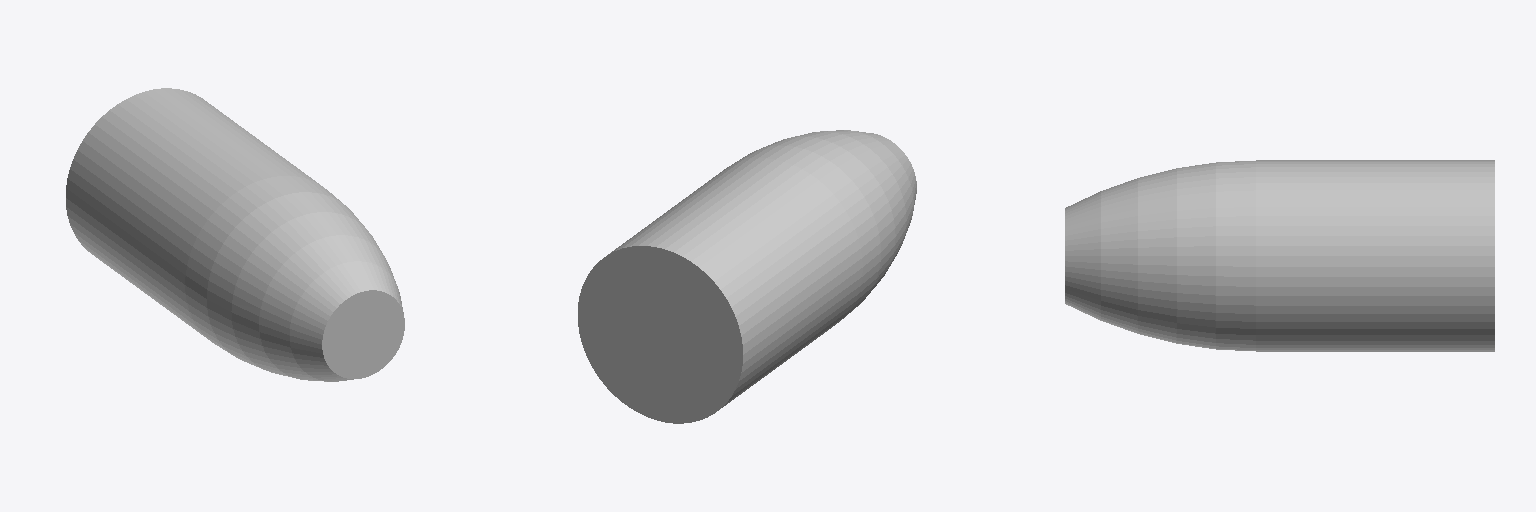
File: Bullet.obj
3 views of the same model, side by side, from view 1: azimuth 30°, elevation 25°; view 2: azimuth 150°, elevation 25°; view 3: azimuth 270°, elevation 25° (orthographic).
Visible parts, largest first — view 1: mesh2, mesh1, mesh3; view 2: mesh1, mesh0, mesh2; view 3: mesh1, mesh2.
Boxes of the visible parts, <box> form: mesh2: <box>185,176,403,381</box>; mesh1: <box>66,88,318,336</box>; mesh3: <box>322,290,404,378</box>; mesh1: <box>608,158,862,407</box>; mesh0: <box>578,246,742,423</box>; mesh2: <box>732,130,916,318</box>; mesh1: <box>1256,160,1494,351</box>; mesh2: <box>1065,161,1255,350</box>.
Bounding box in the file's own units: 0.004 × 0.004 × 0.009.